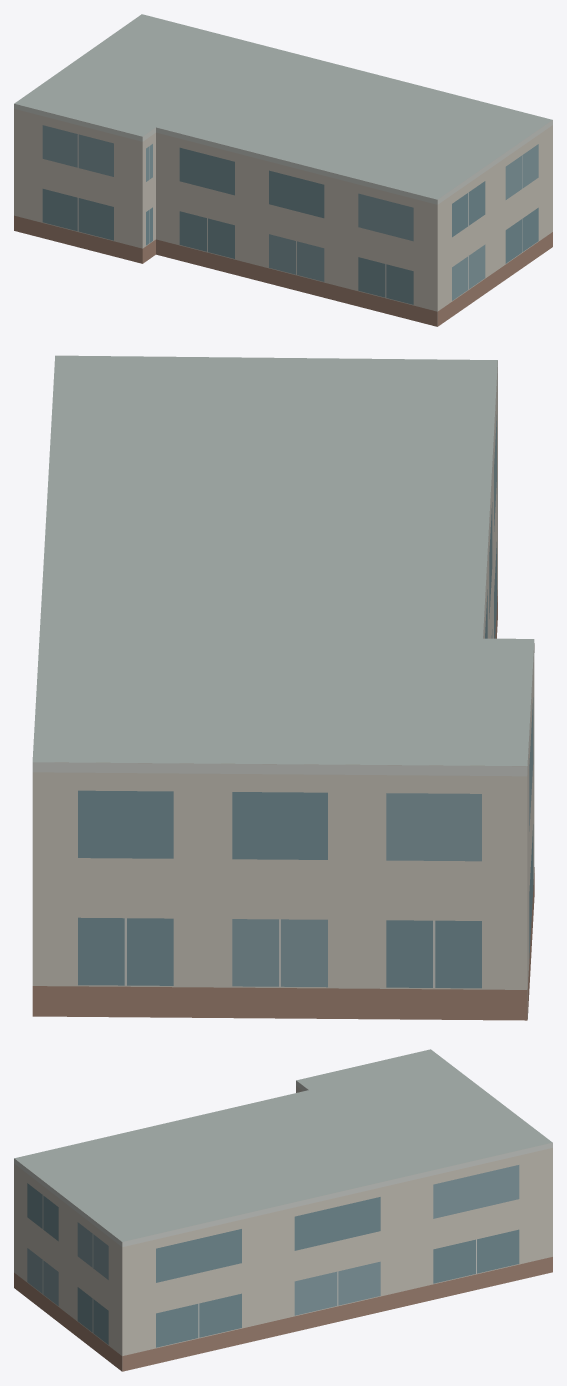
The model's file is survey-upis-32768314.glb.
3 views of the same model, one above another, from view 1: azimuth 30°, elevation 25°; view 2: azimuth 150°, elevation 25°; view 3: azimuth 270°, elevation 25° (orthographic). The views are drawn at different scales.
Visible parts, largest first — view 1: survey-upis-32768314.tmp; view 2: survey-upis-32768314.tmp; view 3: survey-upis-32768314.tmp.
Boxes of the visible parts, x1,y1,x2,y2 form: survey-upis-32768314.tmp: (14, 14, 552, 326); survey-upis-32768314.tmp: (32, 355, 534, 1020); survey-upis-32768314.tmp: (14, 1049, 552, 1371).
Size of the model in its own units: 19.47 by 6.1 by 22.99.
